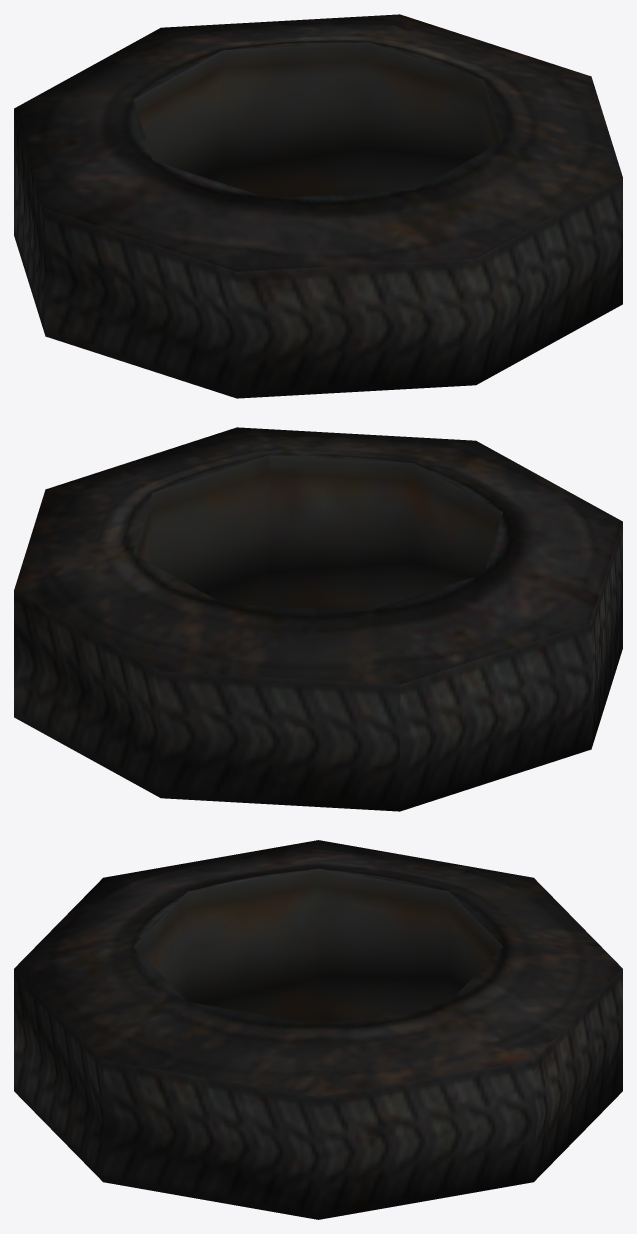
The model's file is Stage-gongchang-luntan.FBX.
The picture shows the model from 3 angles, top to bottom: view 1: azimuth 30°, elevation 25°; view 2: azimuth 150°, elevation 25°; view 3: azimuth 270°, elevation 25°; orthographic projection. The views are drawn at different scales.
Parts seen in each view (by area): view 1: Cylinder18; view 2: Cylinder18; view 3: Cylinder18.
Part boxes in pixels (box(x1,y1,x2,y2)): Cylinder18: box(14, 14, 622, 398); Cylinder18: box(14, 427, 622, 811); Cylinder18: box(14, 840, 622, 1219).
Size of the model in its own units: 1.3 by 1.3 by 0.3945.
